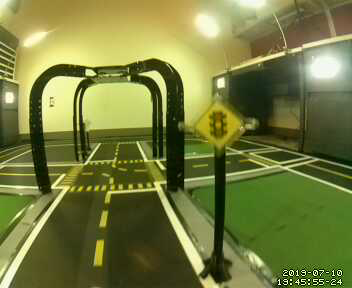Traffic light sign: (195, 104, 242, 152)
